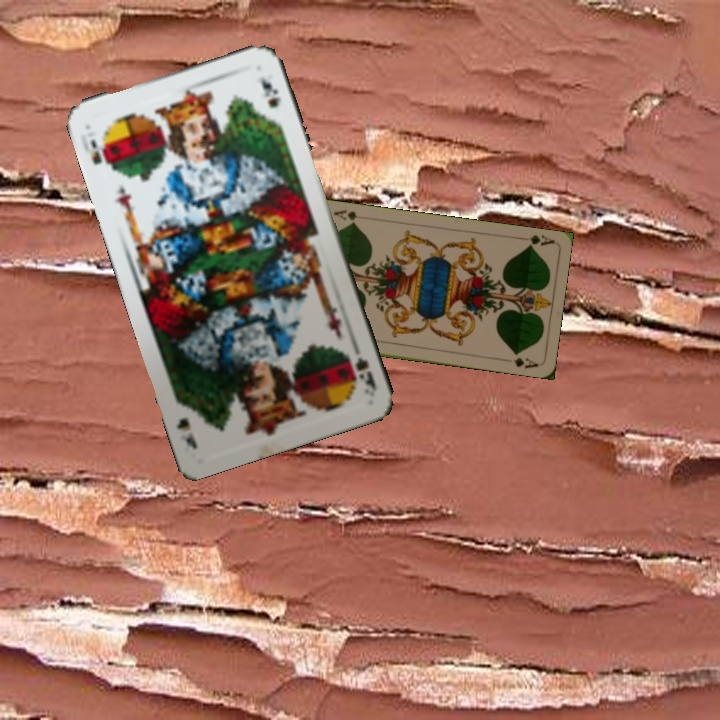GA: (515, 231, 556, 250)
SK: (343, 338, 380, 397), (86, 133, 117, 174)
